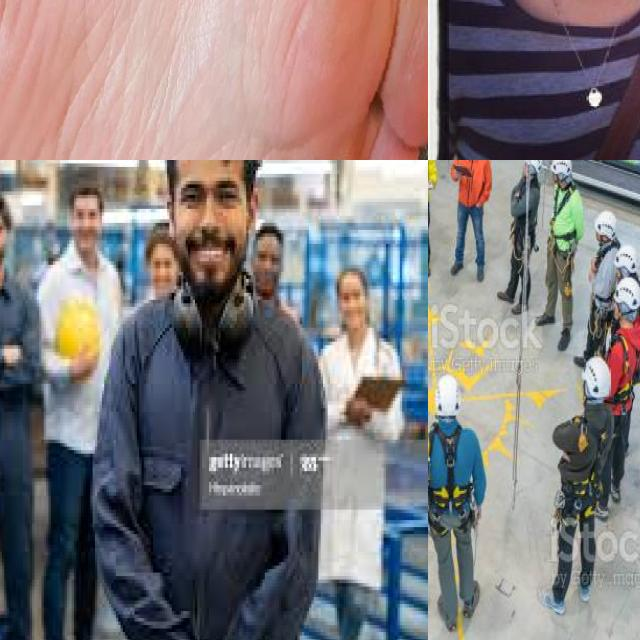Barefoots: (0, 0, 428, 160)
Ear-protection: (212, 279, 254, 363), (167, 276, 204, 360)
Harness: (428, 421, 486, 545), (556, 407, 612, 520), (606, 320, 640, 433), (547, 178, 582, 280), (590, 241, 622, 321)
head_helmet: (49, 282, 100, 373)
person: (99, 160, 327, 640), (46, 188, 125, 640), (453, 0, 640, 160), (323, 274, 400, 640), (0, 191, 43, 640)
